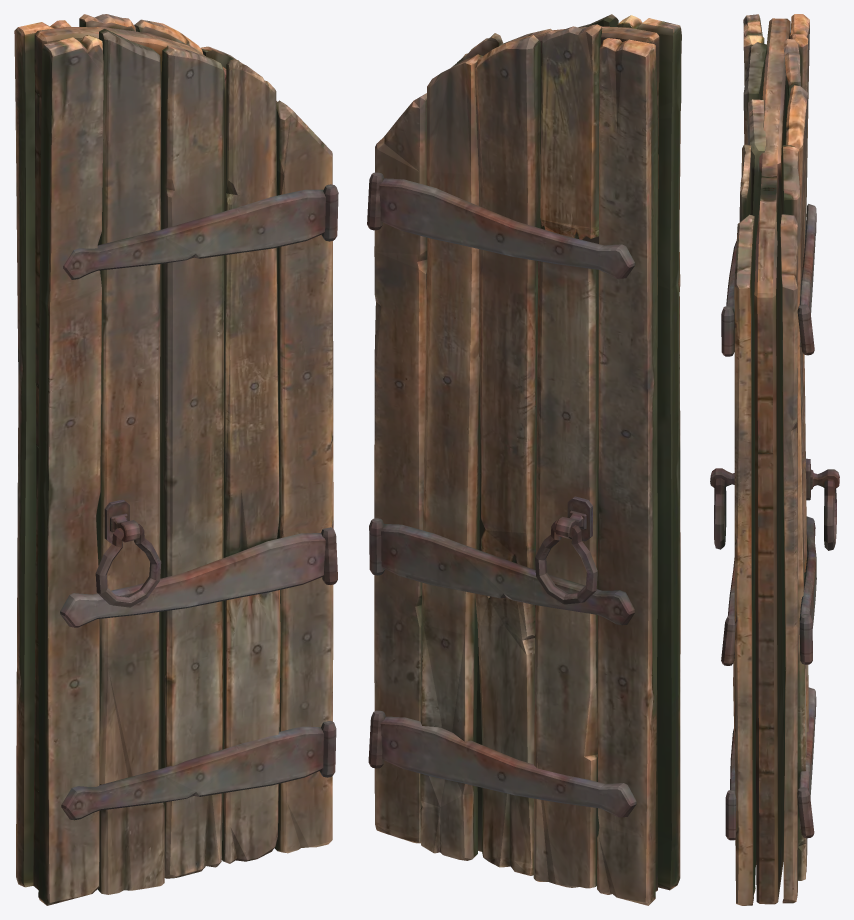
The picture shows the model from 3 angles, left to right: view 1: azimuth 30°, elevation 25°; view 2: azimuth 150°, elevation 25°; view 3: azimuth 270°, elevation 25°; orthographic projection. The views are drawn at different scales.
Visible parts, largest first — view 1: SM_BB_T3_CastleDoor_LOD0; view 2: SM_BB_T3_CastleDoor_LOD0; view 3: SM_BB_T3_CastleDoor_LOD0.
Boxes of the visible parts, x1,y1,x2,y2 form: SM_BB_T3_CastleDoor_LOD0: (14, 14, 338, 905); SM_BB_T3_CastleDoor_LOD0: (367, 14, 681, 905); SM_BB_T3_CastleDoor_LOD0: (710, 14, 839, 905).
Bounding box in the file's own units: 1.29 × 3.76 × 0.5711.
1 material, 1 textured.
